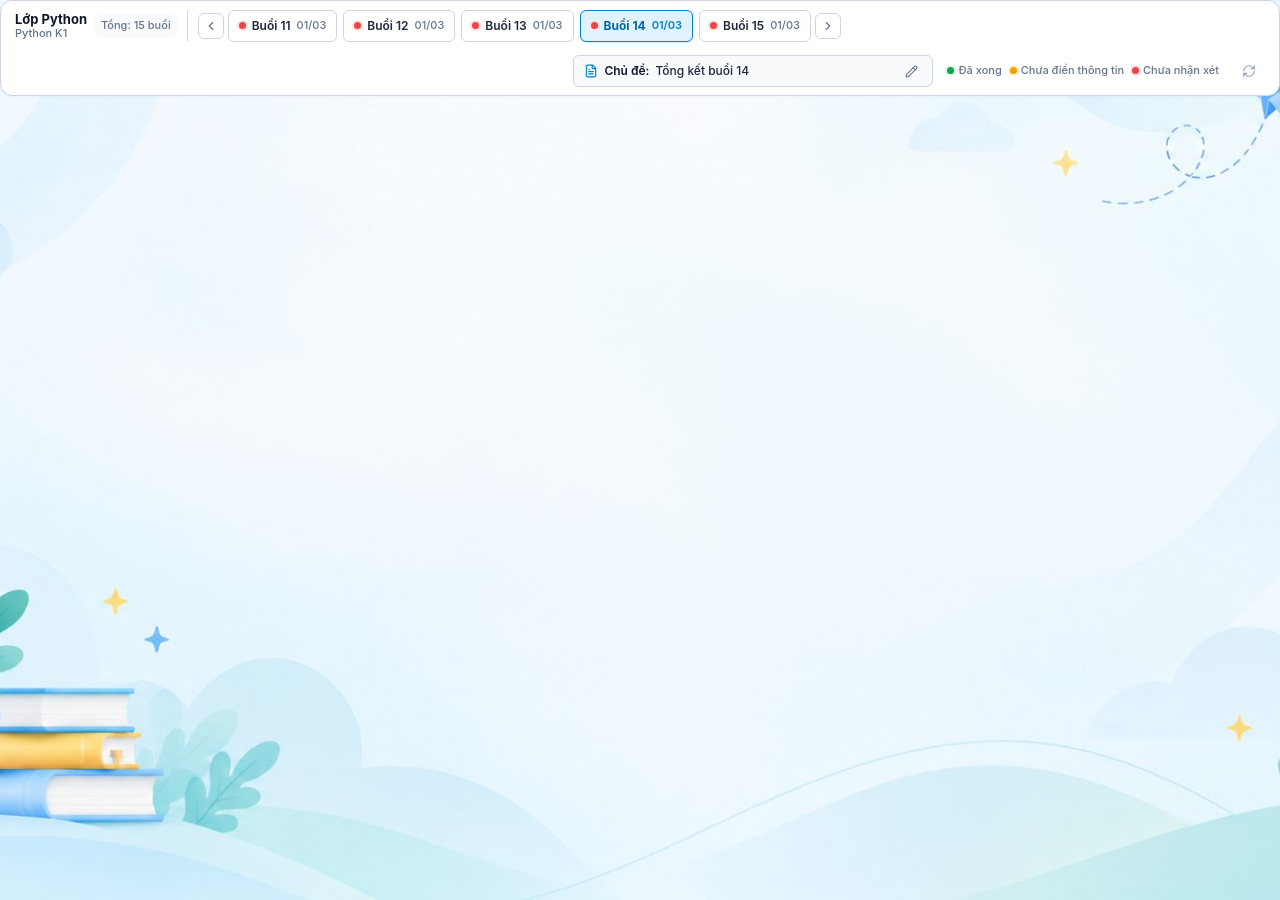
Test case: SessionSelector topic editing and saving › successfully saves topic at session 14 (Demo mode) without error
The width and height of the screenshot is (1280, 900).
Expected: the text "Tổng kết buổi 14" is shown, [655,61,749,81]
# Click edit button
Click the button named "Chỉnh sửa chủ đề".
click(911, 71)  # box [900,60,922,82]
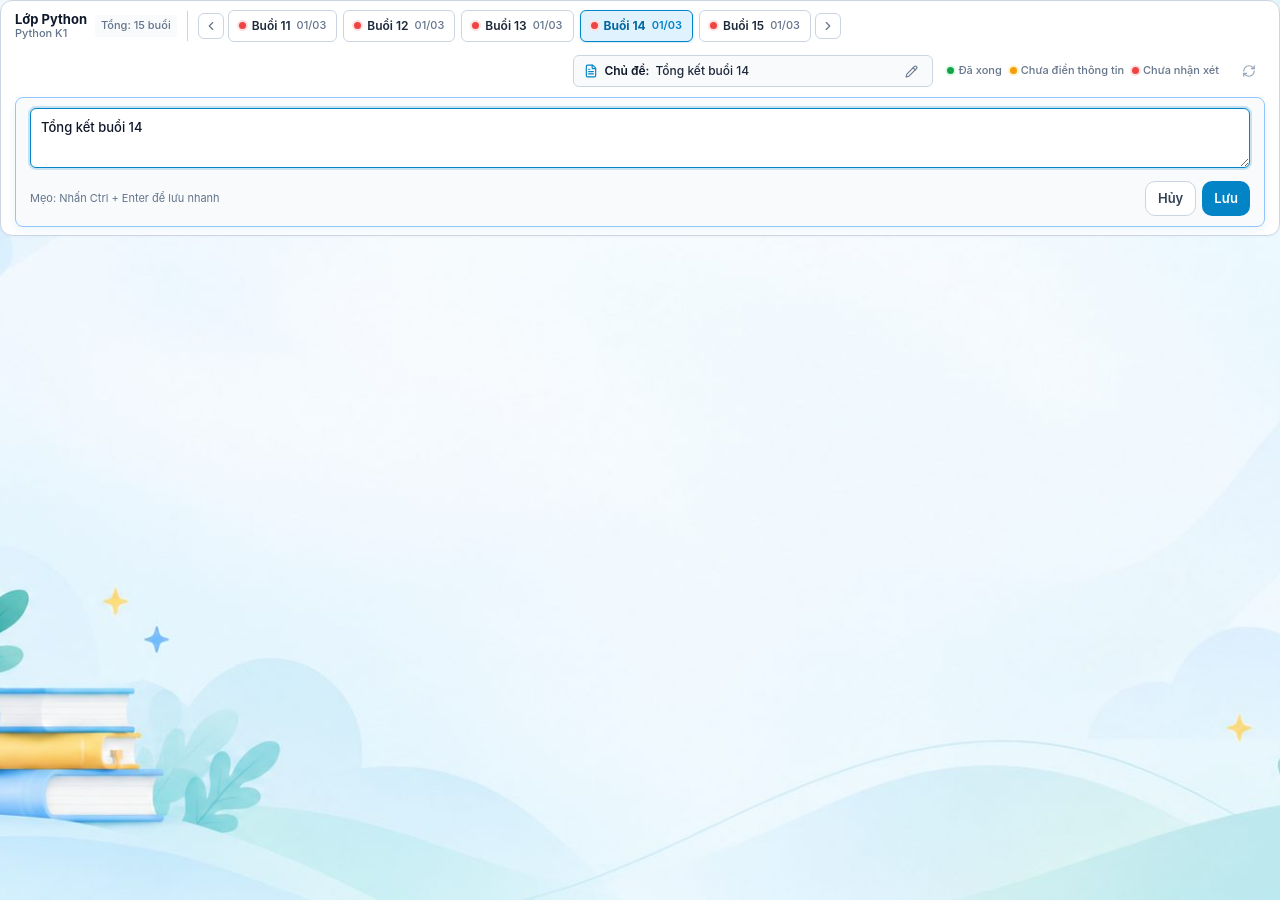
Now the text box with placeholder "Nhập chủ đề hoặc tổng kết buổi học..." is shown
Now the text box with placeholder "Nhập chủ đề hoặc tổng kết buổi học..." holds "Tổng kết buổi 14"
# Clear and type new topic
Replace the text in the text box with placeholder "Nhập chủ đề hoặc tổng kết buổi học..." with "Demo sản phẩm cuối khóa kỳ 1" at [640, 138], box [30,108,1250,168]
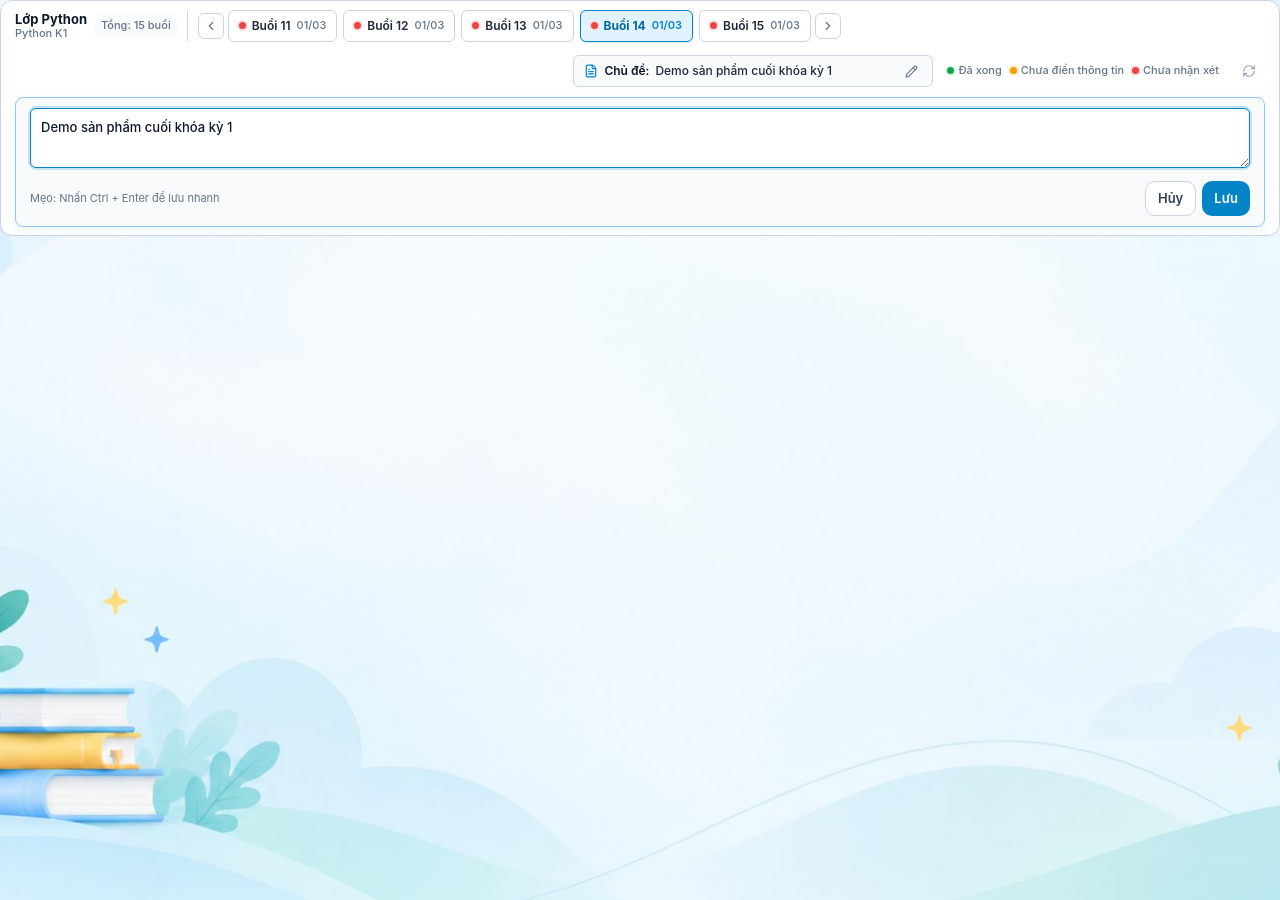
# Click Lưu
Click the button "Lưu".
click(1226, 199)  # box [1202,181,1250,216]
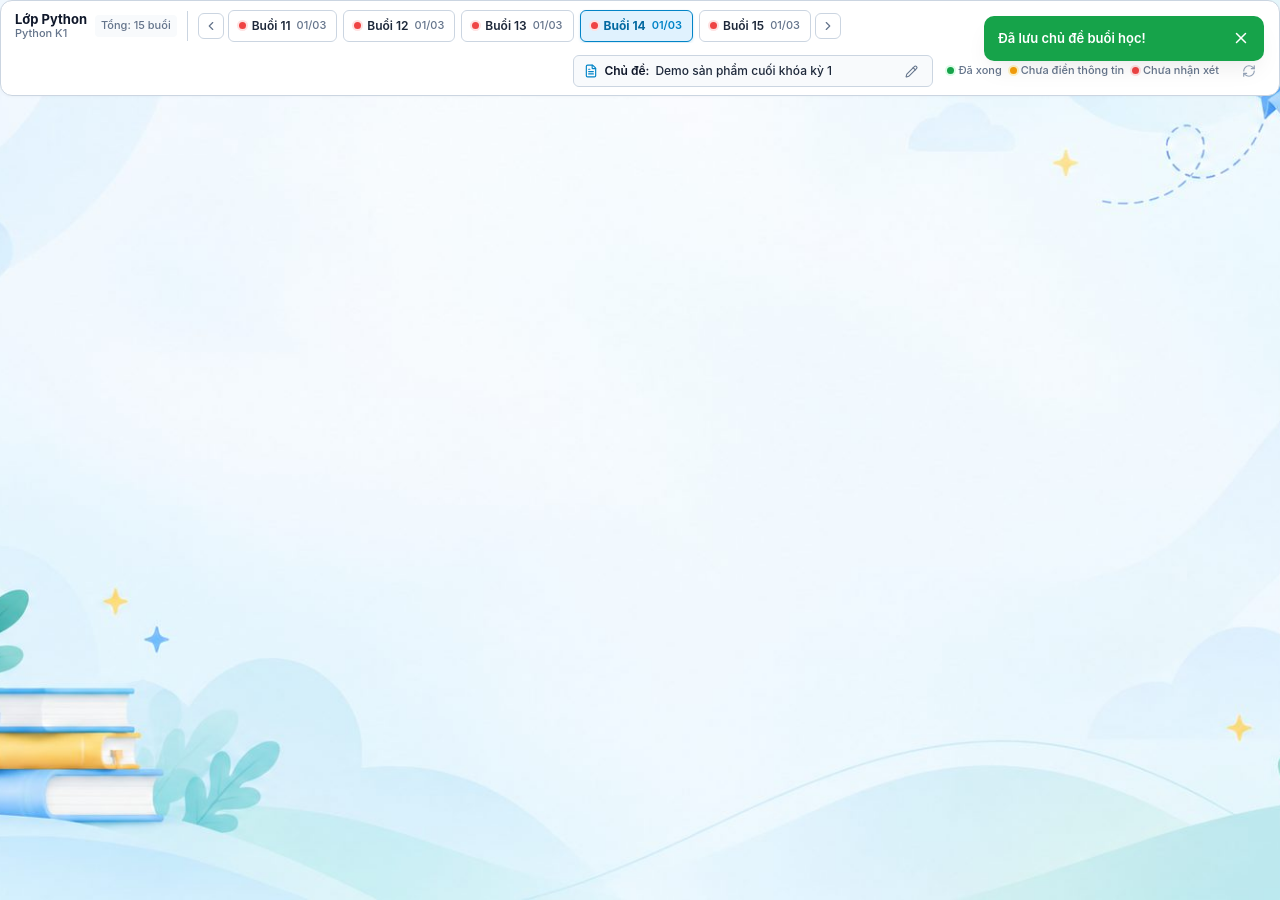
Now the text "Demo sản phẩm cuối khóa kỳ 1" is shown, box [655,61,832,81]
Now the text "Đã lưu chủ đề buổi học!" is shown, box [998,28,1146,49]
